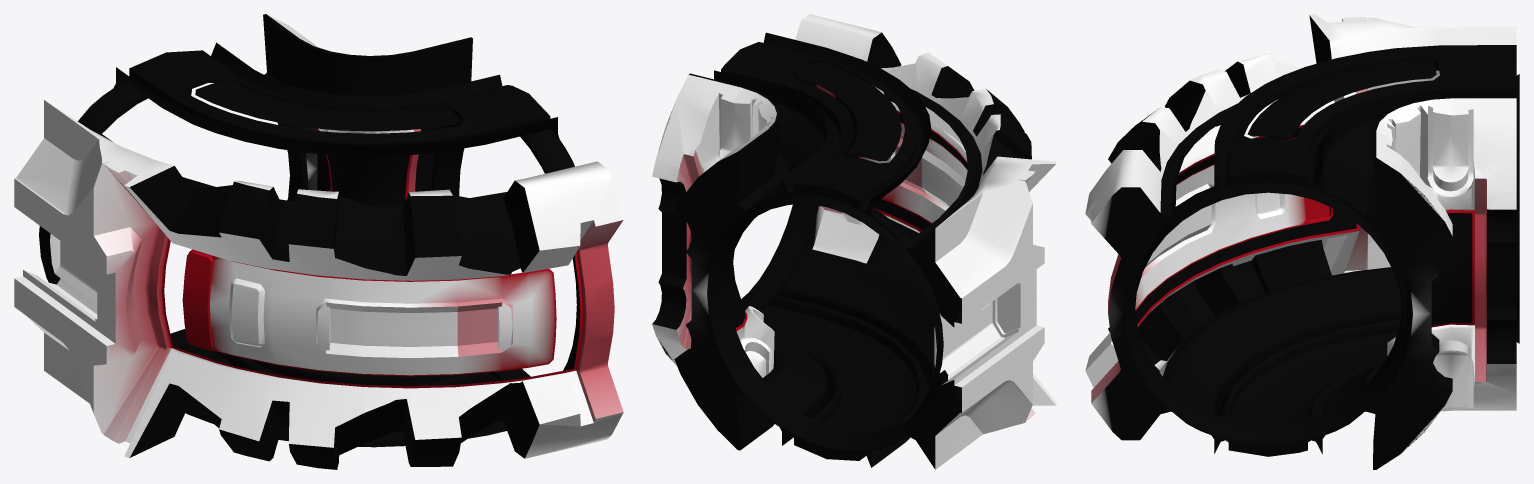
The model's file is part_main-lod0.dae.
3 renders of one model, left to right at view 1: azimuth 30°, elevation 25°; view 2: azimuth 150°, elevation 25°; view 3: azimuth 270°, elevation 25°, orthographic. The views are drawn at different scales.
Parts seen in each view (by area): view 1: part_main-lod0Xlod0Xp2genericXgen_p2_hulltextureaged_02, part_main-lod0Xlod0Xp2genericXgen_p2_hullpattern_01, part_main-lod0Xlod0Xp2genericXgen_p2_hulltexture_02_c, part_main-lod0Xlod0Xp2multimatXp2_multimat_01; view 2: part_main-lod0Xlod0Xp2genericXgen_p2_hulltextureaged_02, part_main-lod0Xlod0Xp2genericXgen_p2_hullpattern_01, part_main-lod0Xlod0Xp2genericXgen_p2_hulltexture_02_c, part_main-lod0Xlod0Xp2multimatXp2_multimat_01; view 3: part_main-lod0Xlod0Xp2genericXgen_p2_hulltextureaged_02, part_main-lod0Xlod0Xp2genericXgen_p2_hullpattern_01, part_main-lod0Xlod0Xp2genericXgen_p2_hulltexture_02_c, part_main-lod0Xlod0Xp2multimatXp2_multimat_01.
Part boxes in pixels (left/top/right/bottom): part_main-lod0Xlod0Xp2genericXgen_p2_hulltextureaged_02: left=14, top=14, right=623, bottom=469; part_main-lod0Xlod0Xp2genericXgen_p2_hullpattern_01: left=46, top=14, right=623, bottom=458; part_main-lod0Xlod0Xp2genericXgen_p2_hulltexture_02_c: left=129, top=50, right=549, bottom=385; part_main-lod0Xlod0Xp2multimatXp2_multimat_01: left=327, top=154, right=410, bottom=205; part_main-lod0Xlod0Xp2genericXgen_p2_hulltextureaged_02: left=652, top=32, right=1044, bottom=469; part_main-lod0Xlod0Xp2genericXgen_p2_hullpattern_01: left=652, top=14, right=1056, bottom=469; part_main-lod0Xlod0Xp2genericXgen_p2_hulltexture_02_c: left=714, top=42, right=965, bottom=432; part_main-lod0Xlod0Xp2multimatXp2_multimat_01: left=728, top=95, right=968, bottom=328; part_main-lod0Xlod0Xp2genericXgen_p2_hulltextureaged_02: left=1091, top=15, right=1519, bottom=466; part_main-lod0Xlod0Xp2genericXgen_p2_hullpattern_01: left=1085, top=14, right=1516, bottom=469; part_main-lod0Xlod0Xp2genericXgen_p2_hulltexture_02_c: left=1145, top=55, right=1516, bottom=423; part_main-lod0Xlod0Xp2multimatXp2_multimat_01: left=1135, top=127, right=1472, bottom=325.
Bounding box in the file's own units: 26.76 × 22.22 × 27.99.
